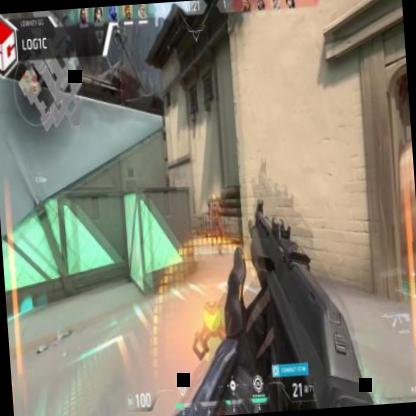enemy: (208, 192, 224, 256)
enemy_head: (210, 192, 216, 206)
